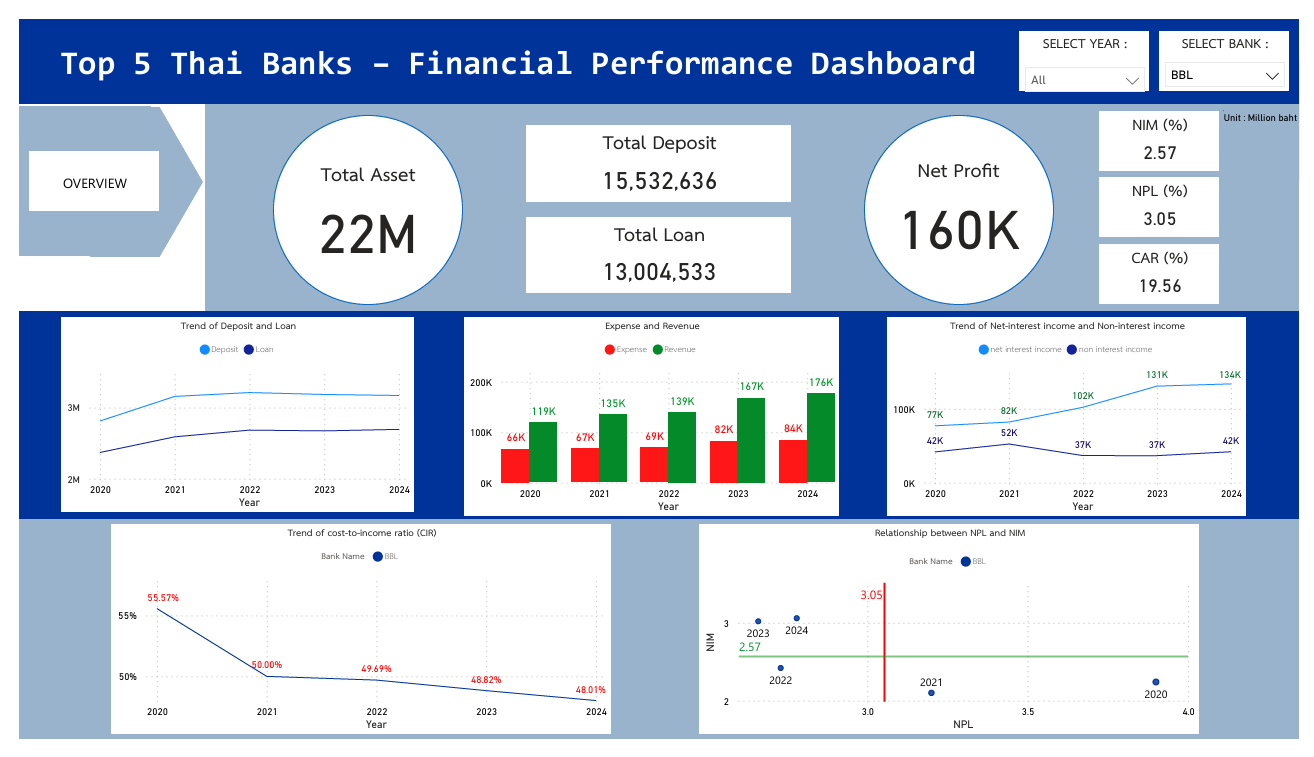

Layout of this report page (visuals, bound fields, positions):
{"tool":"powerbi","page":{"name":"Overview","canvas":[1280,720],"ordinal":0},"visuals":[{"type":"shape","box":[0,0,1280,85],"z":0},{"type":"shape","box":[0,86.7,131.7,150],"z":1000},{"type":"shape","box":[0,292,1280,210],"z":2000},{"type":"shape","box":[0,500,1280,220],"z":3000},{"type":"shape","box":[186,84.8,1093.9,207.6],"z":4000},{"type":"slicer","title":"SELECT YEAR : ","fields":{"Values":["YearTable.Year"]},"box":[1000,12,130,60],"z":5000},{"type":"slicer","title":"  SELECT BANK :","fields":{"Values":["Bank.BankCode"]},"box":[1140,12,130,60],"z":6000},{"type":"card","title":"Total Loan","fields":{"Values":["top5THbanking.Loan"]},"box":[506.8,197.8,265,76.7],"z":7000},{"type":"scatterChart","title":"Relationship between NPL and NIM","fields":{"Y":["top5THbanking.NIM"],"Size":["top5THbanking.NPL"],"Category":["YearTable.Year"],"Series":["Bank.BankCode"],"X":["top5THbanking.NPL"]},"box":[680,505,500,210],"z":8000},{"type":"lineChart","title":"Trend of Deposit and Loan","fields":{"Y":["top5THbanking.Deposit","top5THbanking.Loan"],"Category":["YearTable.Year"]},"box":[41.7,298.3,353.3,195],"z":9000},{"type":"lineChart","title":"Trend of cost-to-income ratio (CIR)","fields":{"Y":["top5THbanking.C/I"],"Category":["YearTable.Year"],"Series":["Bank.BankCode"]},"box":[91.7,505,500,210],"z":10000},{"type":"clusteredColumnChart","title":"Expense and Revenue","fields":{"Y":["top5THbanking.Expense","top5THbanking.Revenue"],"Category":["YearTable.Year"]},"box":[445,298.3,375,198.3],"z":11000},{"type":"card","title":"Total Deposit","fields":{"Values":["top5THbanking.Deposit"]},"box":[506.8,106.1,265,76.7],"z":12000},{"type":"shape","box":[26.7,86.7,156.7,150],"z":13000},{"type":"shape","box":[10,131.7,130,60],"z":14000},{"type":"shape","box":[252.9,94.6,190,190],"z":15000},{"type":"shape","box":[843.5,95,190,190],"z":16000},{"type":"card","title":"Total Asset","fields":{"Values":["top5THbanking.Total Asset"]},"box":[272.9,138,150,108.3],"z":17000},{"type":"card","title":"Net Profit","fields":{"Values":["top5THbanking.Net Profit"]},"box":[865.7,134.1,145.5,107.7],"z":18000},{"type":"lineChart","title":"Trend of Net-interest income and Non-interest income","fields":{"Category":["YearTable.Year"],"Y":["top5THbanking.REV_interest","top5THbanking.REV_non"]},"box":[868.3,298.3,358.3,198.3],"z":19000},{"type":"shape","box":[39.7,0,946.6,84.5],"z":20000},{"type":"shape","title":"Million baht","box":[1203.3,85,75,21.7],"z":21000},{"type":"card","title":"NIM (%)","fields":{"Values":["top5THbanking.NIM"]},"box":[1080,91.7,120,60],"z":21001},{"type":"card","title":"NPL (%)","fields":{"Values":["top5THbanking.NPL"]},"box":[1080,158.3,120,60],"z":21002},{"type":"card","title":"CAR (%)","fields":{"Values":["top5THbanking.CAR"]},"box":[1080,225,120,60],"z":21003}]}

Visuals, with their boxes in screenshot pixels (x1, y1, x2, y2), scaled from the page's 1280x720 canvas onto the 1314x757 screenshot:
shape: Rect(0, 0, 1313, 89)
shape: Rect(0, 91, 135, 249)
shape: Rect(0, 307, 1313, 528)
shape: Rect(0, 526, 1313, 756)
shape: Rect(191, 89, 1313, 307)
"SELECT YEAR : " slicer: Rect(1027, 13, 1160, 76)
"  SELECT BANK :" slicer: Rect(1170, 13, 1304, 76)
"Total Loan" card: Rect(520, 208, 792, 289)
"Relationship between NPL and NIM" scatterChart: Rect(698, 531, 1211, 752)
"Trend of Deposit and Loan" lineChart: Rect(43, 314, 405, 519)
"Trend of cost-to-income ratio (CIR)" lineChart: Rect(94, 531, 607, 752)
"Expense and Revenue" clusteredColumnChart: Rect(457, 314, 842, 522)
"Total Deposit" card: Rect(520, 112, 792, 192)
shape: Rect(27, 91, 188, 249)
shape: Rect(10, 138, 144, 202)
shape: Rect(260, 99, 455, 299)
shape: Rect(866, 100, 1061, 300)
"Total Asset" card: Rect(280, 145, 434, 259)
"Net Profit" card: Rect(889, 141, 1038, 254)
"Trend of Net-interest income and Non-interest income" lineChart: Rect(891, 314, 1259, 522)
shape: Rect(41, 0, 1012, 89)
"Million baht" shape: Rect(1235, 89, 1312, 112)
"NIM (%)" card: Rect(1109, 96, 1232, 159)
"NPL (%)" card: Rect(1109, 166, 1232, 230)
"CAR (%)" card: Rect(1109, 237, 1232, 300)
